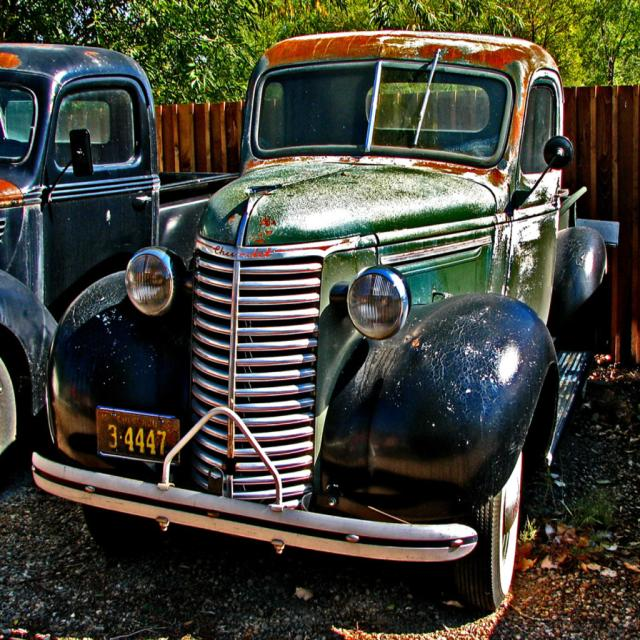car: (29, 27, 619, 616)
